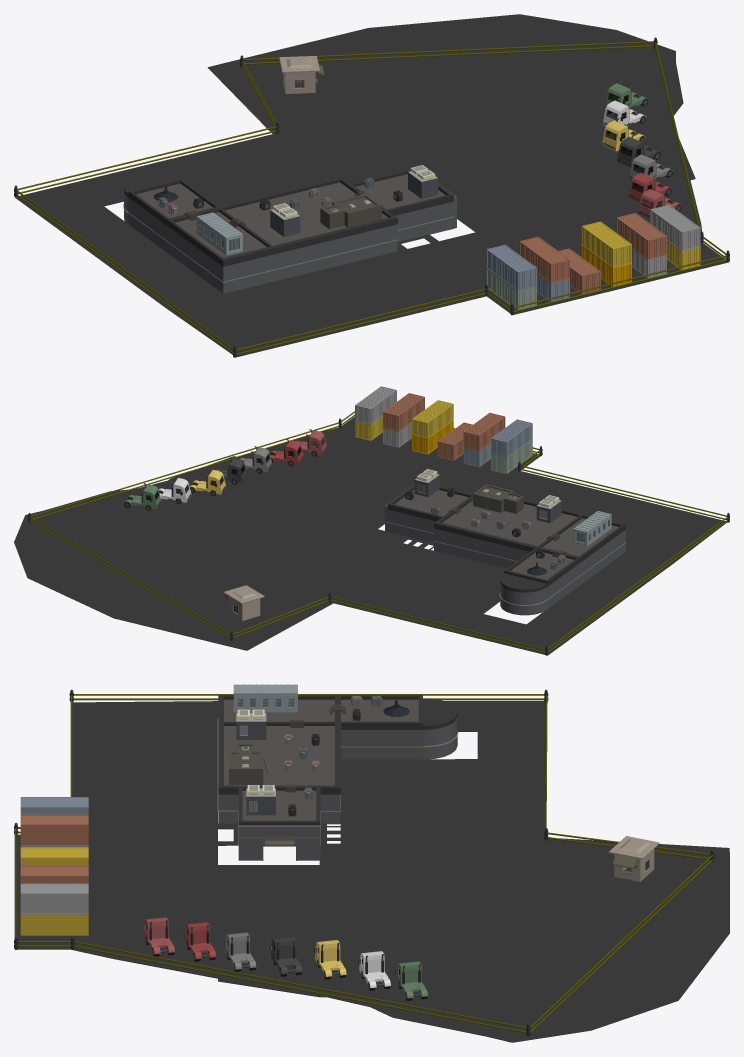
Rendered from facility.fbx.
The picture shows the model from 3 angles, top to bottom: view 1: azimuth 30°, elevation 25°; view 2: azimuth 150°, elevation 25°; view 3: azimuth 270°, elevation 25°; orthographic projection. The views are drawn at different scales.
Visible parts, largest first — view 1: building4, pCube181, pCube183, pCube185, pCube184, pCube182, pCube177, pCube180, pCube178, polySurface292, polySurface342, polySurface375 (+7 smaller); view 2: building4, pCube183, pCube181, pCube185, pCube182, pCube184, pCube177, pCube180, polySurface393, pCube178, polySurface342, polySurface238 (+7 smaller); view 3: building4, pCube184, pCube182, pCube179, pCube183, pCube181, pCube185, polySurface393, pCube68, polySurface375, polySurface342, polySurface238 (+2 smaller).
Part boxes in pixels (bbox=[...]): building4: bbox=[14, 14, 729, 357]; pCube181: bbox=[486, 244, 536, 291]; pCube183: bbox=[581, 221, 631, 268]; pCube185: bbox=[616, 213, 666, 259]; pCube184: bbox=[650, 205, 700, 251]; pCube182: bbox=[519, 236, 569, 283]; pCube177: bbox=[558, 248, 600, 294]; pCube180: bbox=[486, 269, 536, 309]; pCube178: bbox=[581, 245, 631, 286]; polySurface292: bbox=[617, 134, 660, 167]; polySurface342: bbox=[602, 118, 645, 151]; polySurface375: bbox=[603, 98, 646, 126]; building4: bbox=[14, 411, 729, 655]; pCube183: bbox=[412, 400, 453, 438]; pCube181: bbox=[491, 419, 532, 457]; pCube185: bbox=[383, 393, 424, 431]; pCube182: bbox=[463, 412, 505, 451]; pCube184: bbox=[355, 386, 396, 424]; pCube177: bbox=[437, 422, 472, 461]; pCube180: bbox=[491, 439, 532, 473]; polySurface393: bbox=[123, 483, 161, 510]; pCube178: bbox=[412, 420, 453, 454]; polySurface342: bbox=[190, 468, 225, 495]; polySurface238: bbox=[270, 438, 303, 466]; building4: bbox=[14, 684, 729, 1042]; pCube184: bbox=[20, 883, 88, 914]; pCube182: bbox=[20, 814, 88, 845]; pCube179: bbox=[20, 914, 88, 935]; pCube183: bbox=[20, 847, 88, 865]; pCube181: bbox=[20, 797, 88, 814]; pCube185: bbox=[20, 866, 88, 883]; polySurface393: bbox=[395, 961, 427, 1000]; pCube68: bbox=[142, 917, 174, 956]; polySurface375: bbox=[358, 951, 390, 990]; polySurface342: bbox=[314, 940, 346, 979]; polySurface238: bbox=[183, 922, 216, 961].
Bounding box in the file's own units: 1975 × 162 × 1750.
